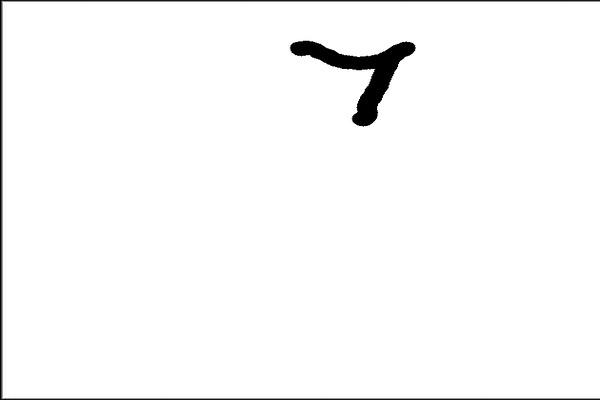Y: (279, 21, 431, 141)
